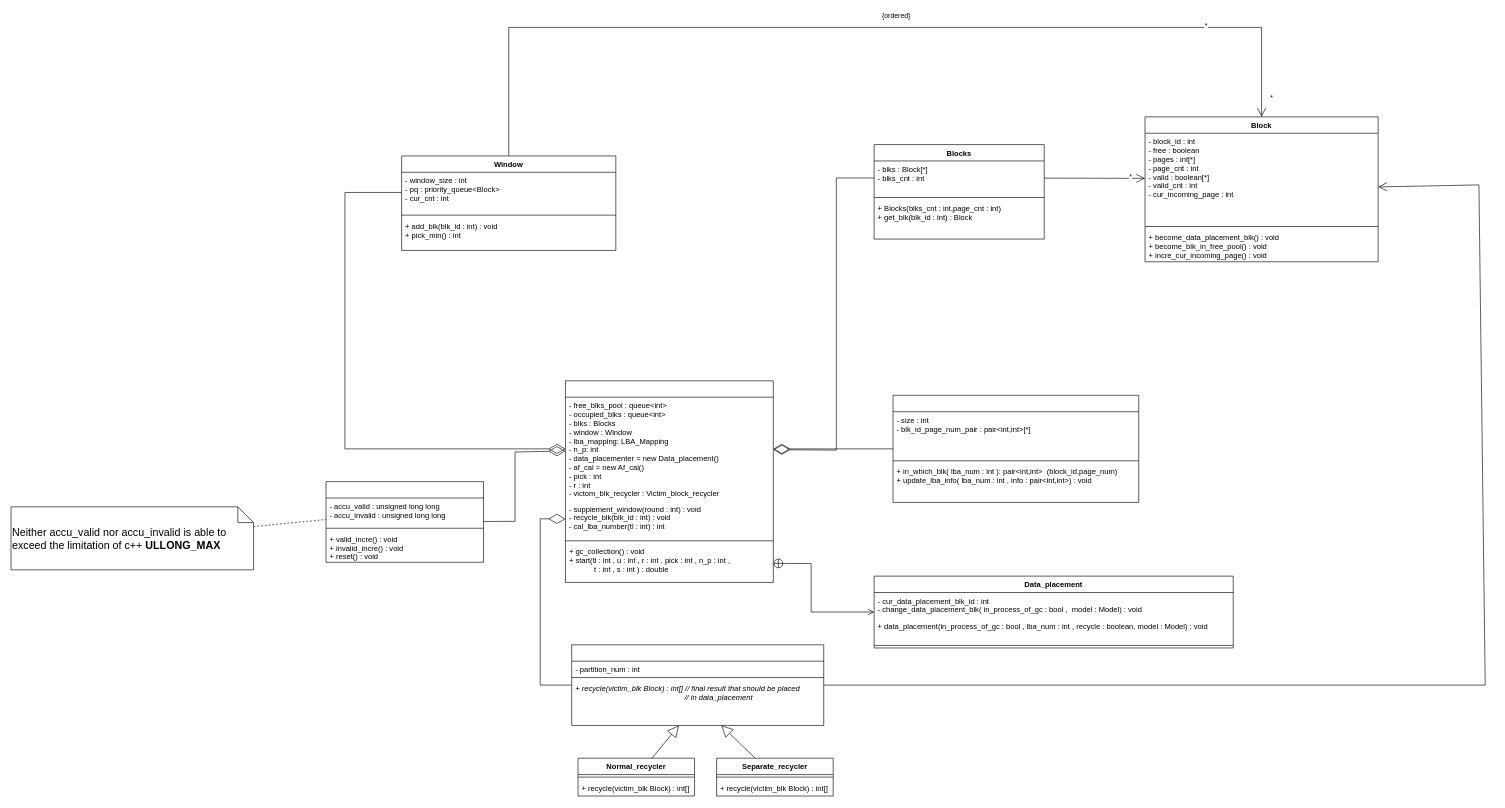
Image size: 1505x808. Some labels were removed from this diagram. The shapes that lost their labels are listed below. From the top down, each one's box as (x1, y1, x2, y2) in pixels, then its label:
(892, 395, 1139, 502): LBA_Mapping
(565, 380, 773, 582): Model
(325, 481, 484, 562): Af_cal
(571, 644, 824, 725): Victim_block_recycler
